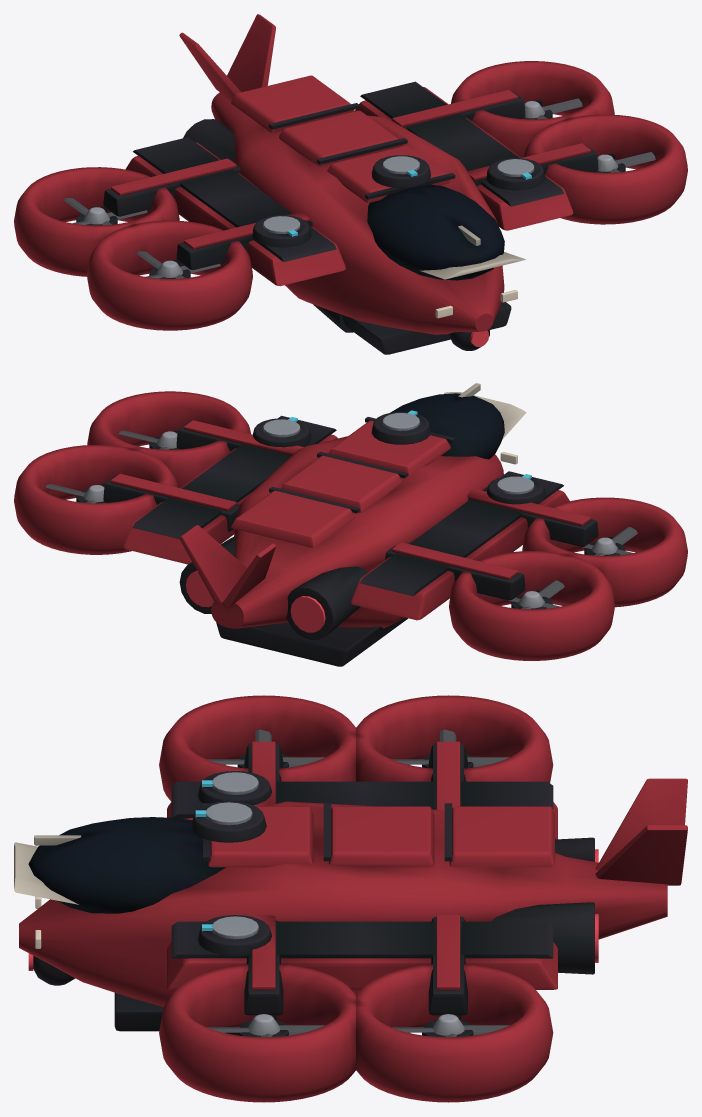
The model's file is ex_gunship_4.glb.
3 renders of one model, top to bottom at view 1: azimuth 30°, elevation 25°; view 2: azimuth 150°, elevation 25°; view 3: azimuth 270°, elevation 25°, orthographic. The views are drawn at different scales.
Parts seen in each view (by area): view 1: body, rotor_2, rotor_3, rotor_0, rotor_1; view 2: body, rotor_3, rotor_2, rotor_0, rotor_1; view 3: body, rotor_1, rotor_0, rotor_3, rotor_2.
Part boxes in pixels (x1=…): body: x1=14, y1=14, x2=687, y2=354; rotor_2: x1=136, y1=251, x2=220, y2=278; rotor_3: x1=63, y1=198, x2=147, y2=225; rotor_0: x1=597, y1=152, x2=655, y2=172; rotor_1: x1=524, y1=98, x2=582, y2=119; body: x1=14, y1=383, x2=687, y2=666; rotor_3: x1=482, y1=580, x2=564, y2=609; rotor_2: x1=554, y1=527, x2=637, y2=555; rotor_0: x1=119, y1=430, x2=177, y2=449; rotor_1: x1=46, y1=484, x2=104, y2=503; body: x1=14, y1=695, x2=687, y2=1102; rotor_1: x1=392, y1=1014, x2=509, y2=1037; rotor_0: x1=207, y1=1014, x2=324, y2=1037; rotor_3: x1=392, y1=729, x2=509, y2=767; rotor_2: x1=207, y1=729, x2=324, y2=767.
Size of the model in its own units: 11.38 by 3 by 9.09.
